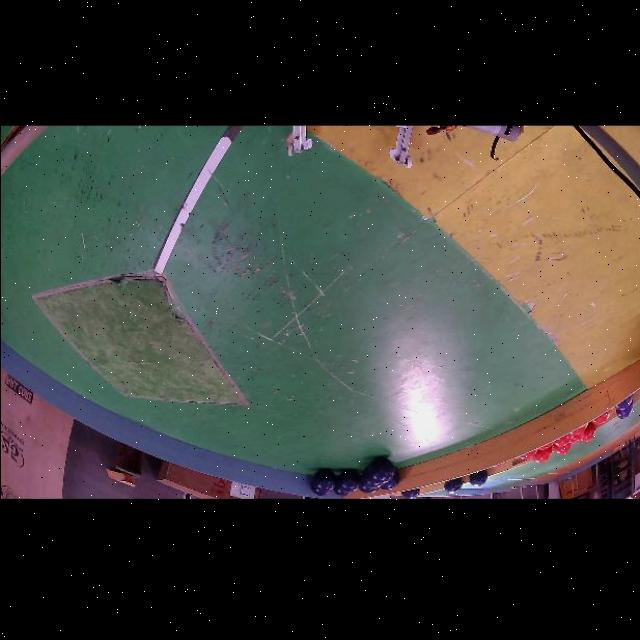B: (366, 458, 395, 484), (312, 469, 337, 493), (337, 470, 361, 493), (361, 469, 383, 489), (381, 471, 400, 491), (469, 471, 487, 488), (444, 479, 463, 495), (309, 484, 330, 497), (333, 485, 351, 497), (402, 489, 420, 500), (359, 485, 378, 495)
P: (616, 404, 634, 419), (616, 396, 633, 411)
R: (533, 448, 552, 465), (581, 423, 596, 444), (592, 411, 611, 426), (554, 435, 573, 448), (554, 444, 572, 456), (520, 450, 538, 461), (572, 426, 587, 436), (538, 444, 552, 452), (573, 435, 582, 443)
